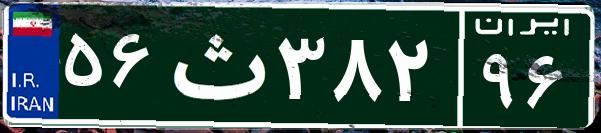2: (385, 28, 445, 110)
3: (273, 28, 330, 110)
5: (57, 26, 110, 107)
6: (110, 28, 158, 105), (525, 38, 570, 115)
8: (330, 28, 385, 110)
9: (475, 38, 525, 113)
ث: (158, 15, 273, 115)
